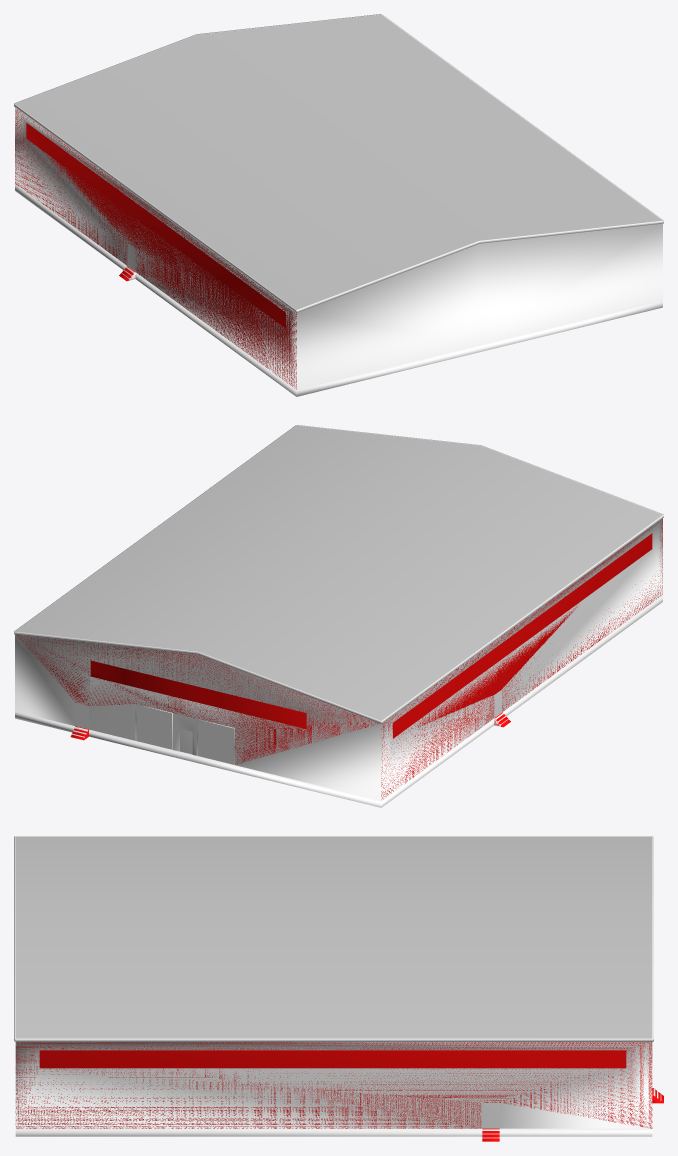
The model's file is lagerhalle_0001.fbx.
3 views of the same model, one above another, from view 1: azimuth 30°, elevation 25°; view 2: azimuth 150°, elevation 25°; view 3: azimuth 270°, elevation 25° (orthographic). The views are drawn at different scales.
Parts seen in each view (by area): view 1: lagerhalle, colmesh; view 2: lagerhalle, colmesh; view 3: lagerhalle, colmesh, tuere3.
Boxes of the visible parts, box(x1,y1,x2,y2) form: lagerhalle: box(14, 14, 663, 396); colmesh: box(15, 109, 296, 389); lagerhalle: box(14, 425, 663, 807); colmesh: box(16, 519, 662, 799); lagerhalle: box(14, 836, 661, 1138); colmesh: box(15, 1042, 663, 1141); tuere3: box(482, 1102, 499, 1128).
Bounding box in the file's own units: 3415 × 947 × 4426.
